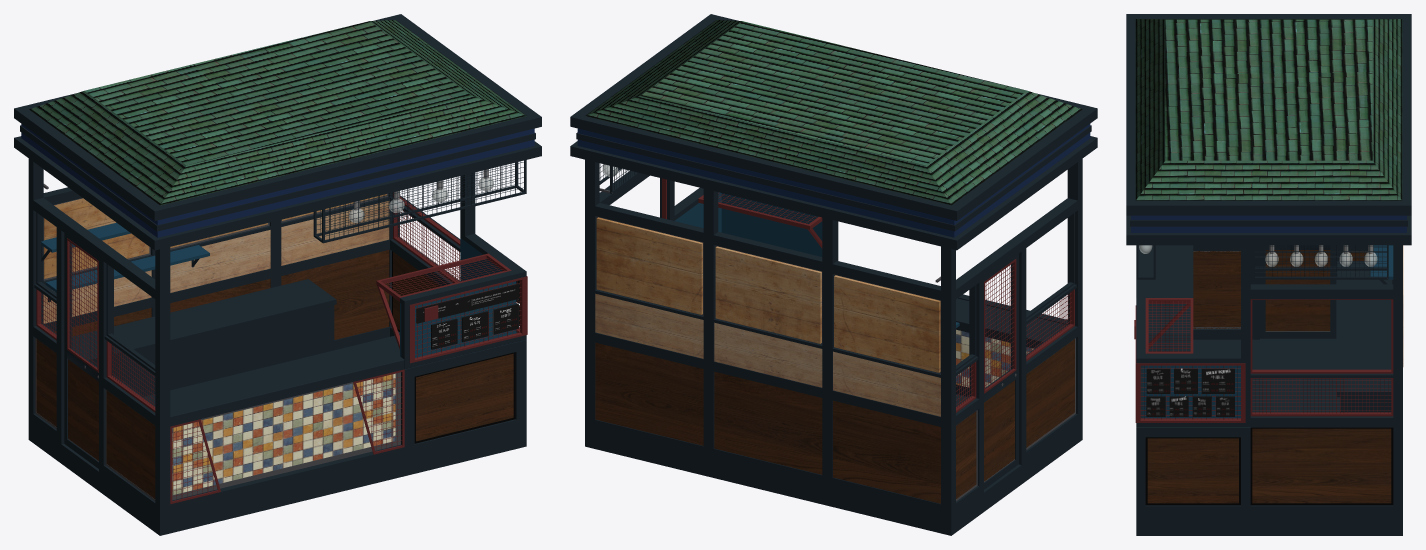
Rendered from fangzi.fbx.
3 views of the same model, side by side, from view 1: azimuth 30°, elevation 25°; view 2: azimuth 150°, elevation 25°; view 3: azimuth 270°, elevation 25° (orthographic).
Visible parts, largest first — view 1: changjing3:polySurface1305; view 2: changjing3:polySurface1305; view 3: changjing3:polySurface1305.
Boxes of the visible parts, left/top/right/bottom form: changjing3:polySurface1305: left=14, top=14, right=541, bottom=535; changjing3:polySurface1305: left=570, top=14, right=1097, bottom=535; changjing3:polySurface1305: left=1126, top=14, right=1411, bottom=535.
Size of the model in its own units: 17.59 by 15.2 by 11.08.
